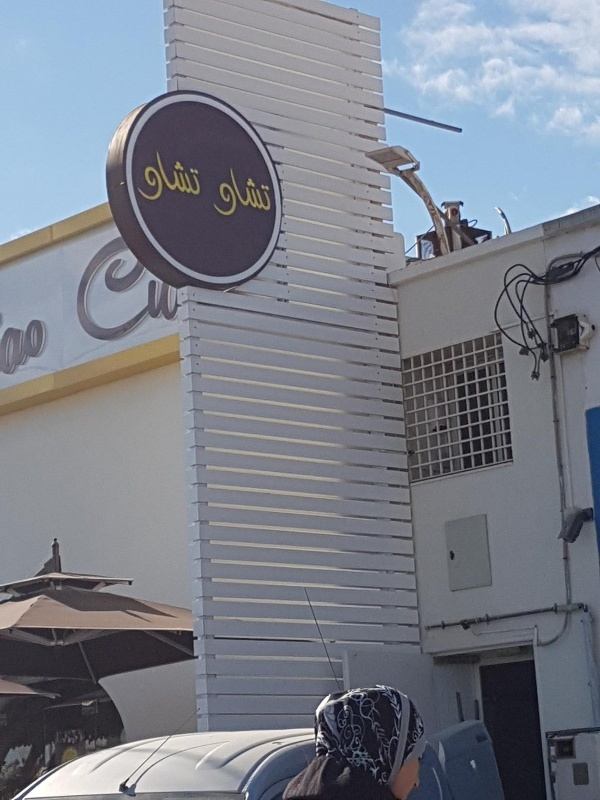text: (65, 228, 80, 355), (81, 228, 96, 355), (97, 228, 112, 355), (113, 228, 128, 355), (129, 228, 144, 355), (145, 228, 160, 355), (161, 228, 176, 355), (177, 228, 191, 355), (33, 317, 49, 377), (17, 317, 32, 377), (225, 163, 240, 217), (241, 163, 256, 217), (257, 163, 272, 217), (161, 150, 176, 202), (177, 150, 192, 202), (146, 150, 160, 202), (5, 317, 16, 377), (193, 150, 202, 202), (218, 163, 224, 217), (62, 228, 64, 355)
